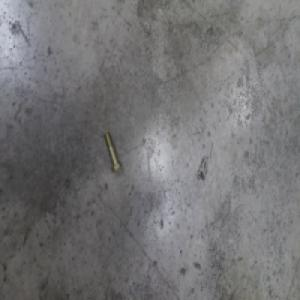Bolt: (103, 132, 122, 175)
